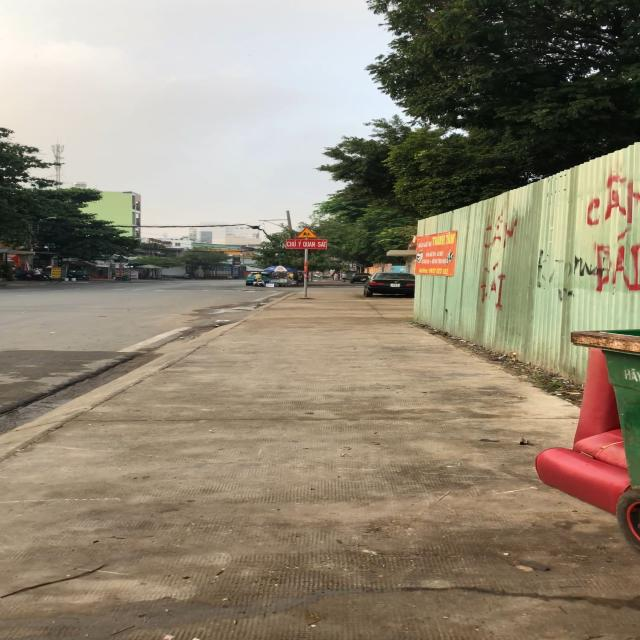Bien bao tre em: (294, 225, 320, 238)
